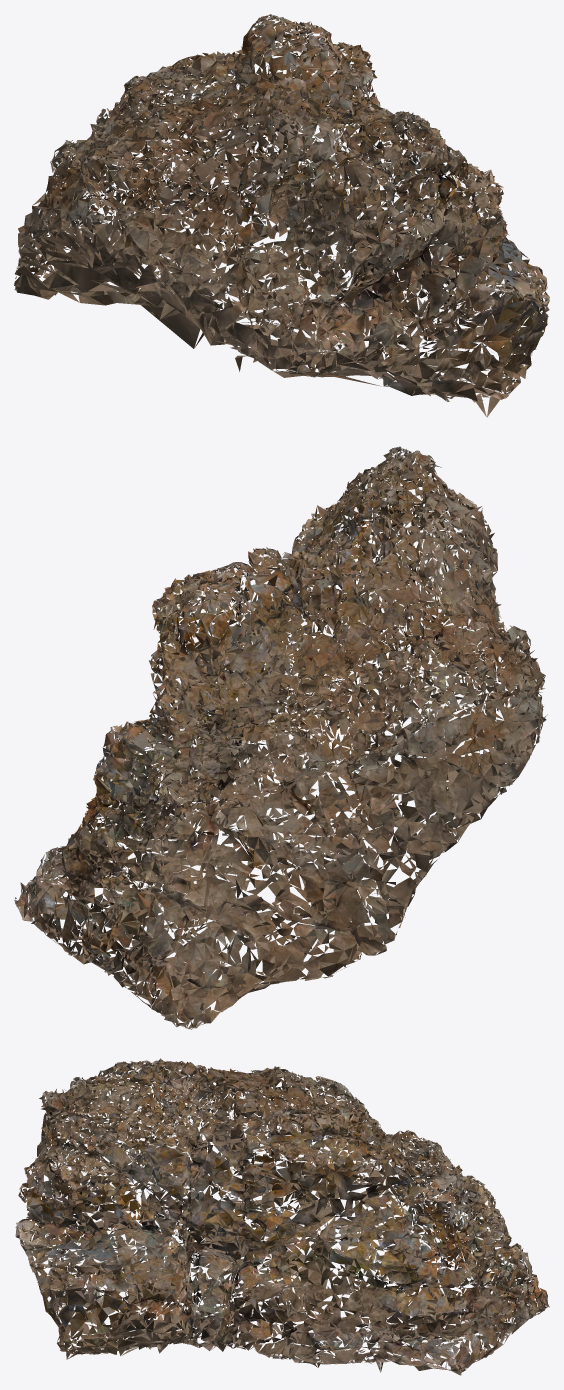
Rendered from boulder.glb.
The picture shows the model from 3 angles, top to bottom: view 1: azimuth 30°, elevation 25°; view 2: azimuth 150°, elevation 25°; view 3: azimuth 270°, elevation 25°; orthographic projection. The views are drawn at different scales.
Parts seen in each view (by area): view 1: boulder; view 2: boulder; view 3: boulder.
Boxes of the visible parts, bbox=[...] form: boulder: bbox=[14, 14, 549, 417]; boulder: bbox=[14, 446, 547, 1029]; boulder: bbox=[15, 1058, 549, 1375].
Size of the model in its own units: 1.28 by 1.01 by 1.84.
Materials: 1 (1 with a texture image).
